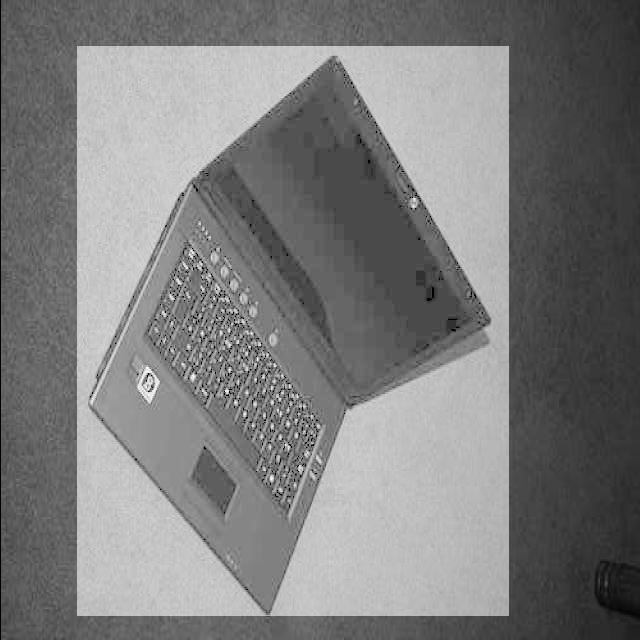-keyboard-: (77, 46, 509, 616)
